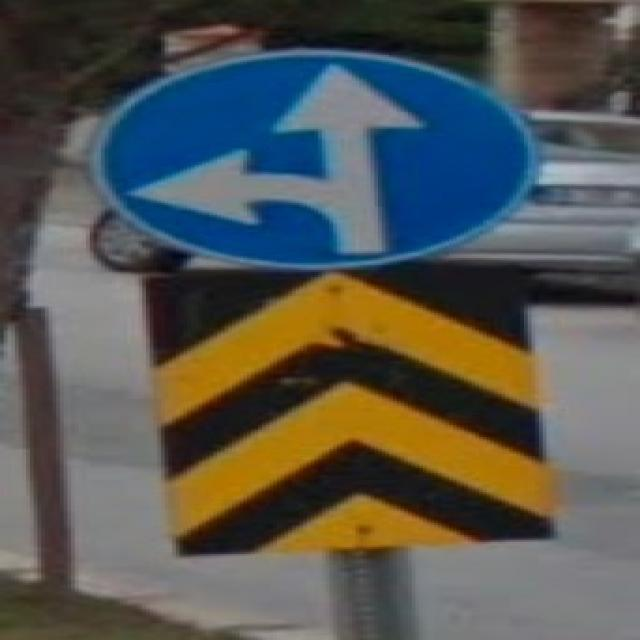Straight or Left: (89, 50, 542, 269)
